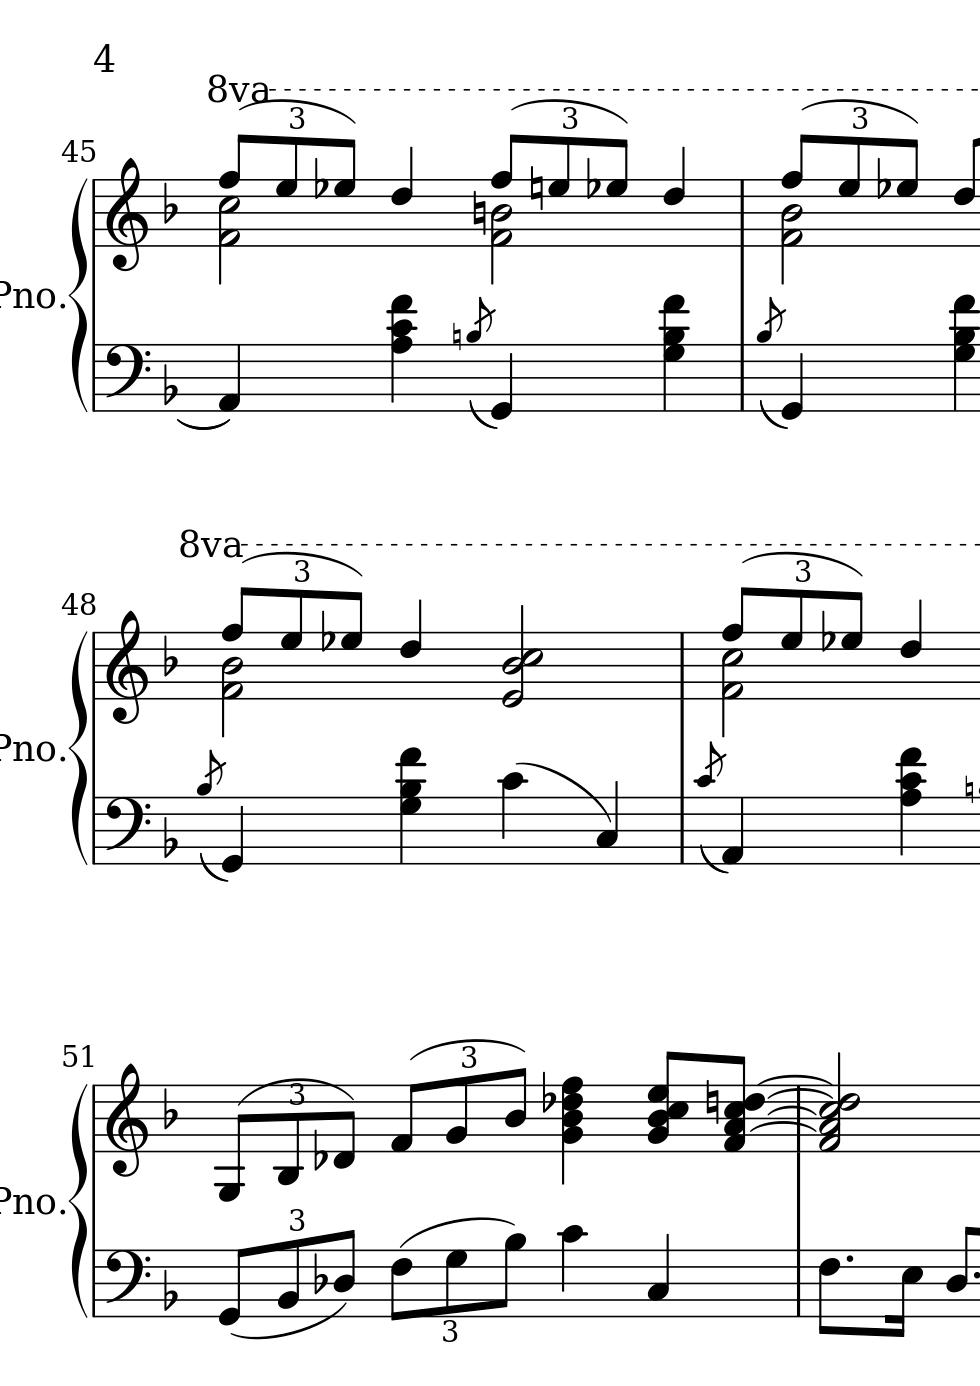1: (81, 1042, 95, 1071)
16_5: (886, 1248, 923, 1339)
2_4th: (818, 1052, 860, 1156)
3: (438, 1318, 461, 1345), (286, 1207, 307, 1233), (292, 559, 311, 585), (794, 559, 811, 585), (287, 107, 305, 131), (850, 107, 868, 131), (288, 1084, 307, 1108), (460, 1045, 477, 1070), (560, 108, 578, 131)
4: (93, 41, 115, 73), (60, 137, 78, 165), (60, 590, 78, 617)
4_0: (221, 795, 245, 875), (491, 343, 514, 422), (781, 343, 804, 422)
4_1: (214, 343, 242, 414), (720, 796, 745, 869)
4_10: (498, 771, 527, 867), (558, 1223, 585, 1321)
4_3: (645, 1233, 670, 1319), (595, 780, 619, 865)
4_4th: (558, 1072, 584, 1187)
4_6: (398, 598, 423, 702), (661, 146, 686, 249), (389, 145, 414, 249), (898, 598, 922, 702)
4_th: (658, 288, 690, 413), (384, 288, 417, 411), (894, 741, 926, 865), (393, 742, 424, 866), (947, 290, 976, 413)
5: (78, 137, 97, 164), (62, 1042, 77, 1070)
8: (78, 590, 97, 617)
8_-1: (333, 1083, 358, 1171)
8_-3: (274, 1080, 303, 1186)
8_-5: (214, 1083, 249, 1201)
8_0: (217, 1245, 251, 1328)
8_1: (388, 1081, 422, 1155)
8_2: (275, 1238, 301, 1319), (443, 1075, 469, 1154)
8_4: (944, 1224, 975, 1319), (501, 1066, 527, 1154), (331, 1228, 356, 1319)
8_4th: (647, 1050, 689, 1153), (723, 1055, 766, 1150)
8_6: (950, 136, 979, 249), (816, 1248, 841, 1338), (388, 1248, 414, 1323)
8_7: (278, 587, 304, 701), (605, 137, 630, 249), (836, 136, 861, 248), (778, 589, 804, 701), (839, 590, 864, 701), (274, 136, 298, 247), (546, 137, 571, 248), (333, 137, 357, 247), (895, 137, 920, 247), (339, 590, 364, 700), (443, 1248, 468, 1318)
8_9: (492, 1232, 527, 1319)
Acciaccature: (195, 745, 227, 872), (693, 742, 723, 865), (465, 299, 498, 407), (755, 298, 788, 408)
Brace: (67, 629, 89, 864), (69, 176, 90, 410), (68, 1081, 89, 1313)
Fclef: (102, 795, 152, 869), (102, 343, 151, 414), (102, 1247, 148, 1319)
Flat: (159, 180, 179, 226), (159, 633, 179, 679), (160, 814, 179, 860), (160, 1085, 179, 1130), (160, 1266, 179, 1311), (160, 361, 178, 407), (818, 607, 835, 653), (539, 1068, 556, 1115), (312, 155, 329, 200), (874, 155, 891, 200), (318, 607, 335, 652), (584, 155, 600, 200), (311, 1128, 327, 1172), (311, 1251, 327, 1295)
Gclef: (104, 609, 148, 725), (104, 156, 148, 271), (104, 1062, 147, 1177)
Natural: (702, 1077, 720, 1127), (470, 189, 487, 238), (528, 164, 544, 213), (451, 321, 463, 352), (963, 775, 974, 806)
Pno: (1, 276, 56, 314), (1, 731, 55, 766)
Single_barline: (790, 1250, 807, 1317), (733, 345, 750, 410), (673, 797, 690, 863), (733, 181, 750, 245), (87, 1084, 103, 1152), (87, 179, 103, 246), (673, 633, 689, 698), (88, 344, 103, 411), (87, 632, 102, 700), (89, 1249, 102, 1317), (89, 797, 102, 864)
Slur: (517, 760, 612, 820), (229, 1301, 347, 1343), (397, 1217, 515, 1249), (802, 97, 917, 126), (742, 549, 863, 576), (239, 98, 358, 123), (243, 551, 362, 577), (512, 97, 625, 122), (242, 1076, 353, 1102), (407, 1040, 523, 1062), (197, 850, 232, 885), (696, 840, 729, 875), (465, 399, 501, 431), (758, 396, 790, 429), (762, 1073, 832, 1086), (174, 416, 231, 429), (770, 1088, 835, 1100), (752, 1122, 813, 1133), (768, 1105, 817, 1116)
dot: (842, 1250, 856, 1267), (972, 1269, 980, 1282)
